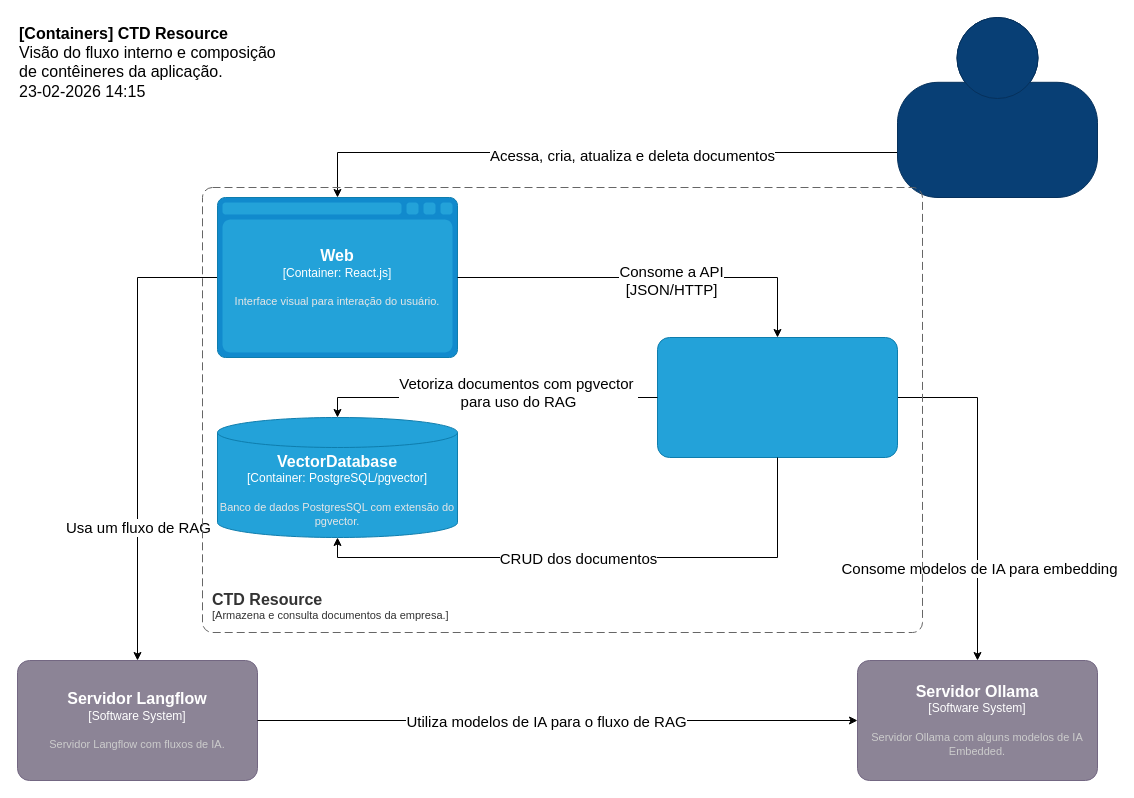
Some shapes in this 1134 by 798 pixel diagram are drawn without their labels. The shapes that lost their labels are listed below. From the top down, each one's centre as x and y in pixels, then its label:
[997,107]: Usuário [Person] Usuário do sistema
[777,397]: API [Container: Node.js] API Rest para gerenciamento dos dados.
